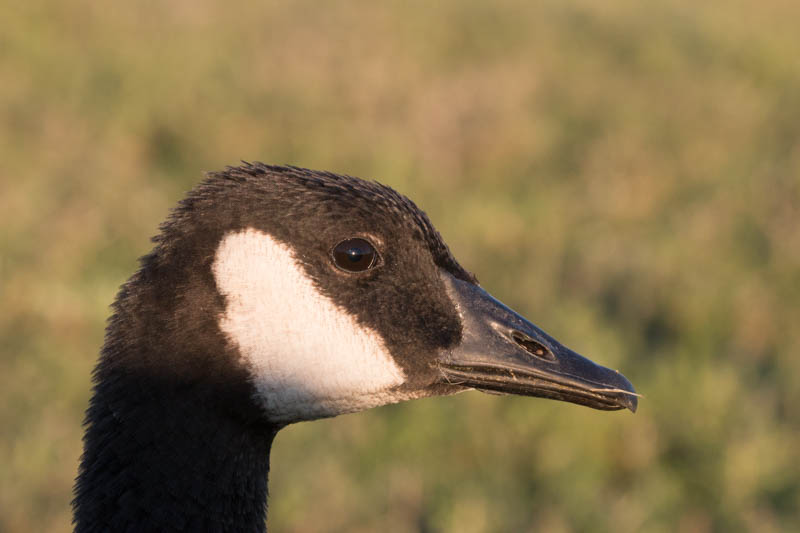goose-head: (92, 160, 641, 433)
